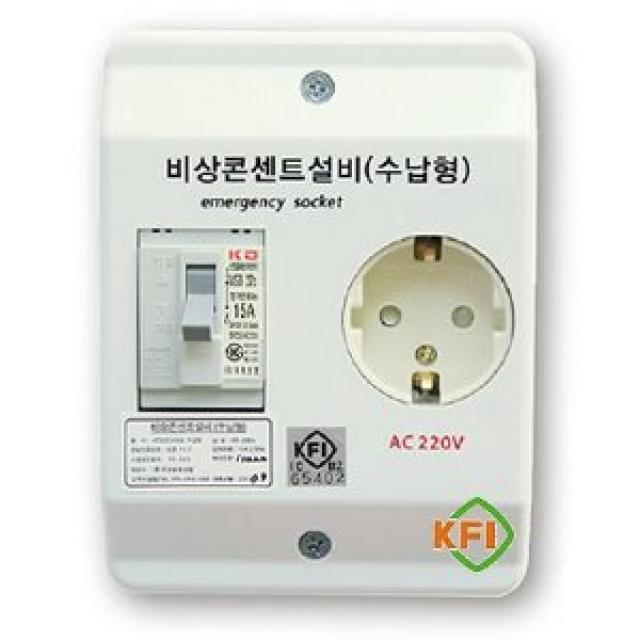typeb: (328, 216, 534, 414)
